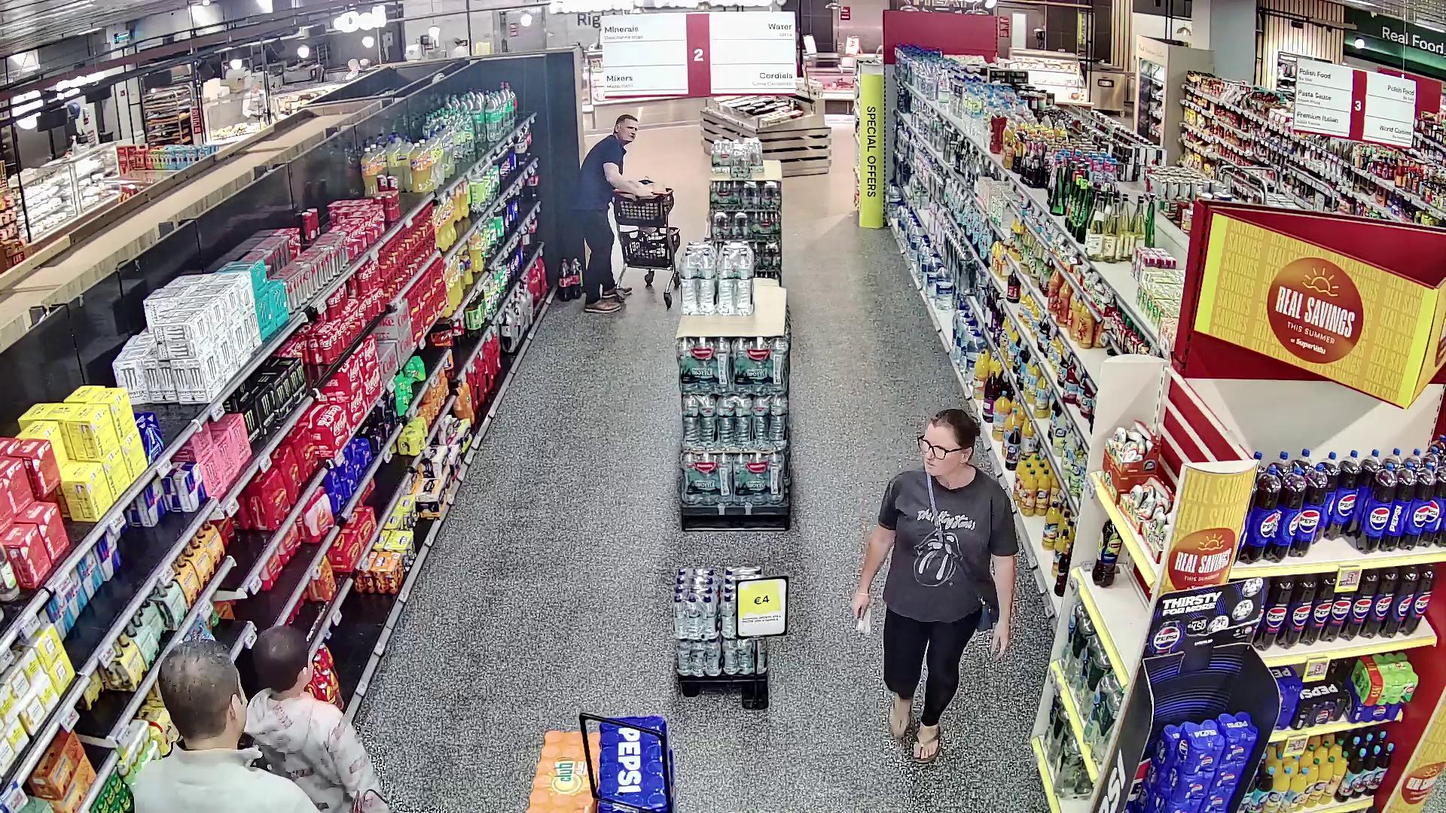backpack-or-handbag: (976, 602, 992, 633)
filled-trolly: (612, 177, 681, 304)
person: (851, 410, 1017, 762), (574, 114, 654, 313)
person-with-filled-basket-trolly: (574, 114, 681, 313)
